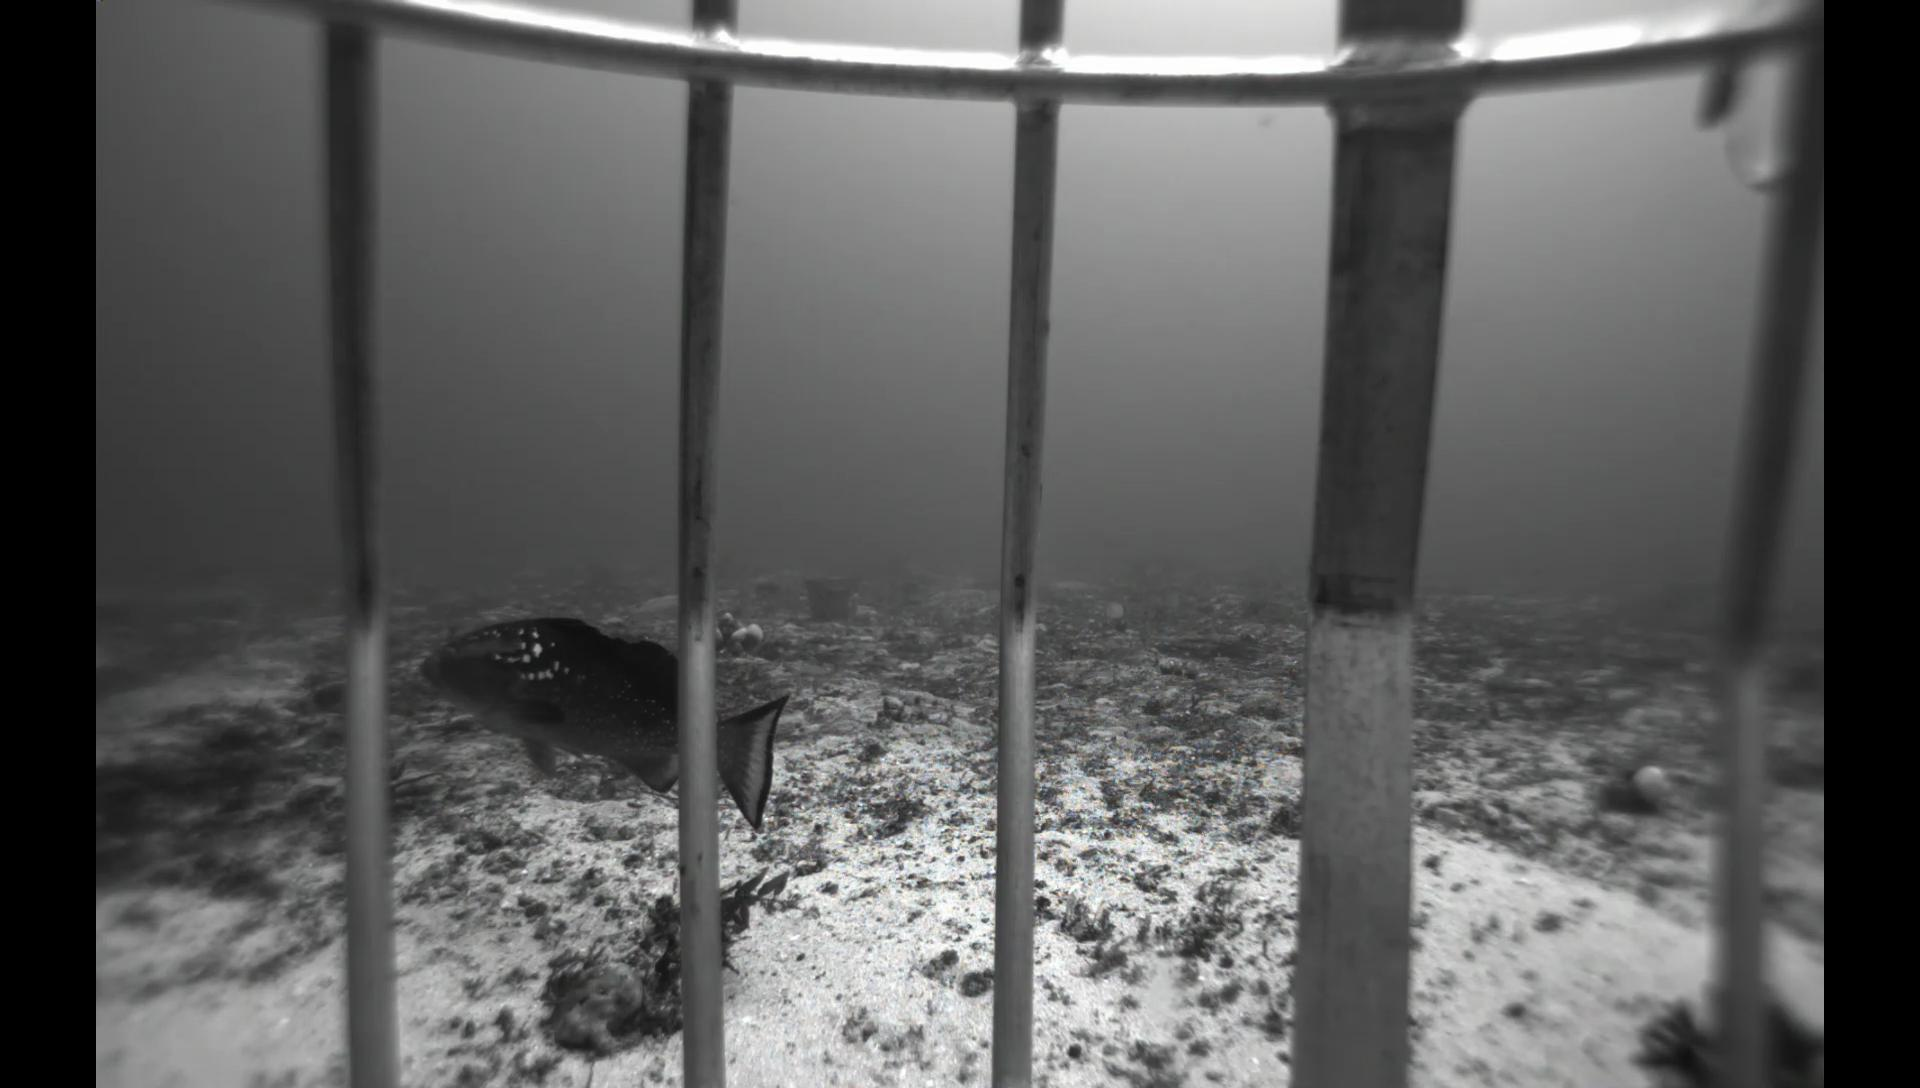CHAETODONOCELLATUS-170260307: (1092, 596, 1131, 626), (1155, 587, 1189, 615)
EPINEPHELUSMORIO-170021211: (409, 608, 796, 841)
PRISTIGENYSALTA-170050401: (298, 674, 348, 717)
